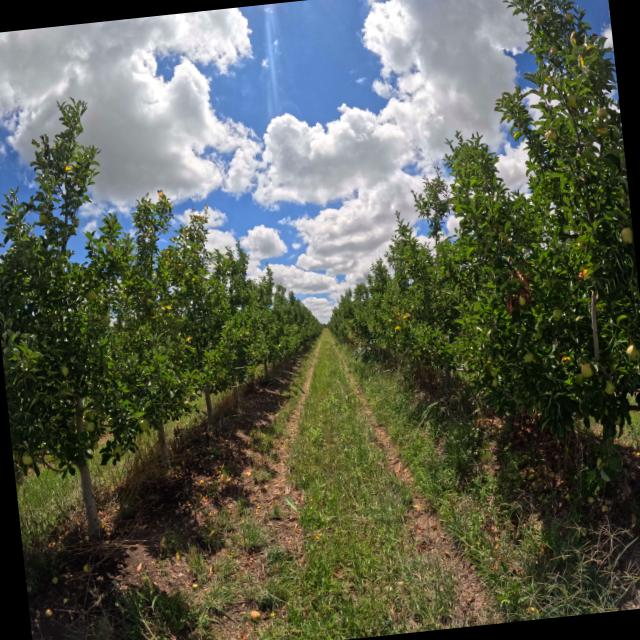-FireBlight-: (506, 269, 531, 312), (523, 258, 530, 267), (509, 270, 514, 280), (506, 255, 512, 262)
